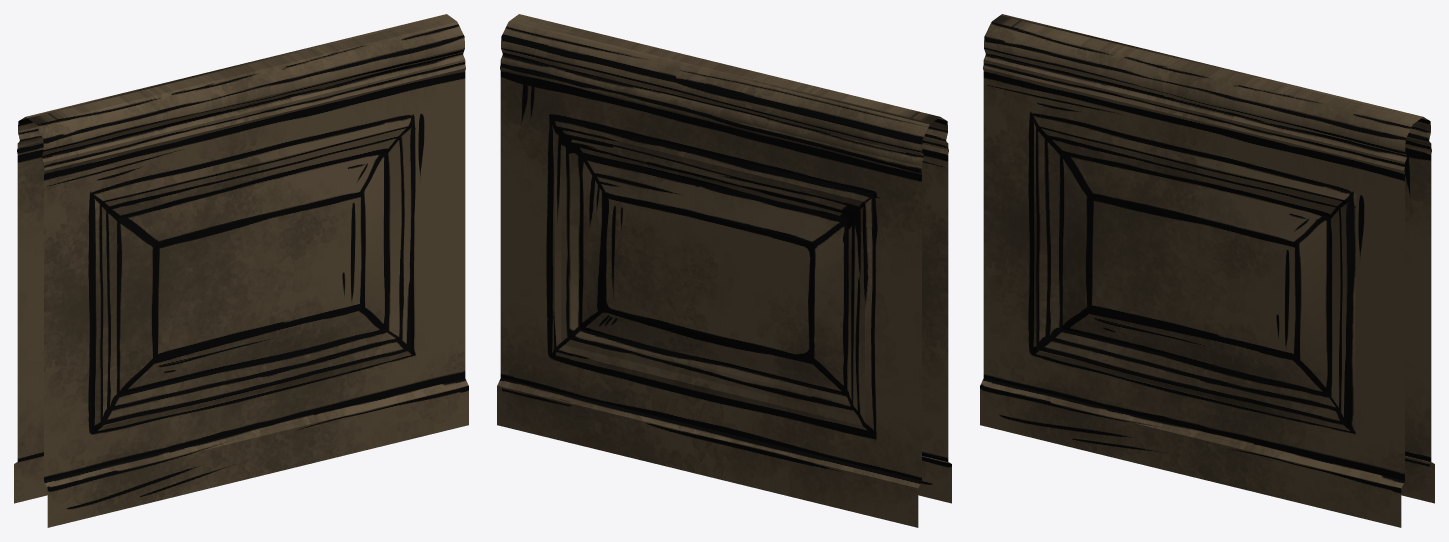
The model's file is zocalo_rectangular.fbx.
The picture shows the model from 3 angles, left to right: view 1: azimuth 30°, elevation 25°; view 2: azimuth 150°, elevation 25°; view 3: azimuth 330°, elevation 25°; orthographic projection.
Visible parts, largest first — view 1: zocalo_horizontal001; view 2: zocalo_horizontal001; view 3: zocalo_horizontal001.
Part boxes in pixels (left/top/right/bottom): zocalo_horizontal001: left=14, top=14, right=468, bottom=527; zocalo_horizontal001: left=497, top=14, right=951, bottom=527; zocalo_horizontal001: left=980, top=14, right=1434, bottom=527.
Bounding box in the file's own units: 106 × 14.56 × 95.03.
